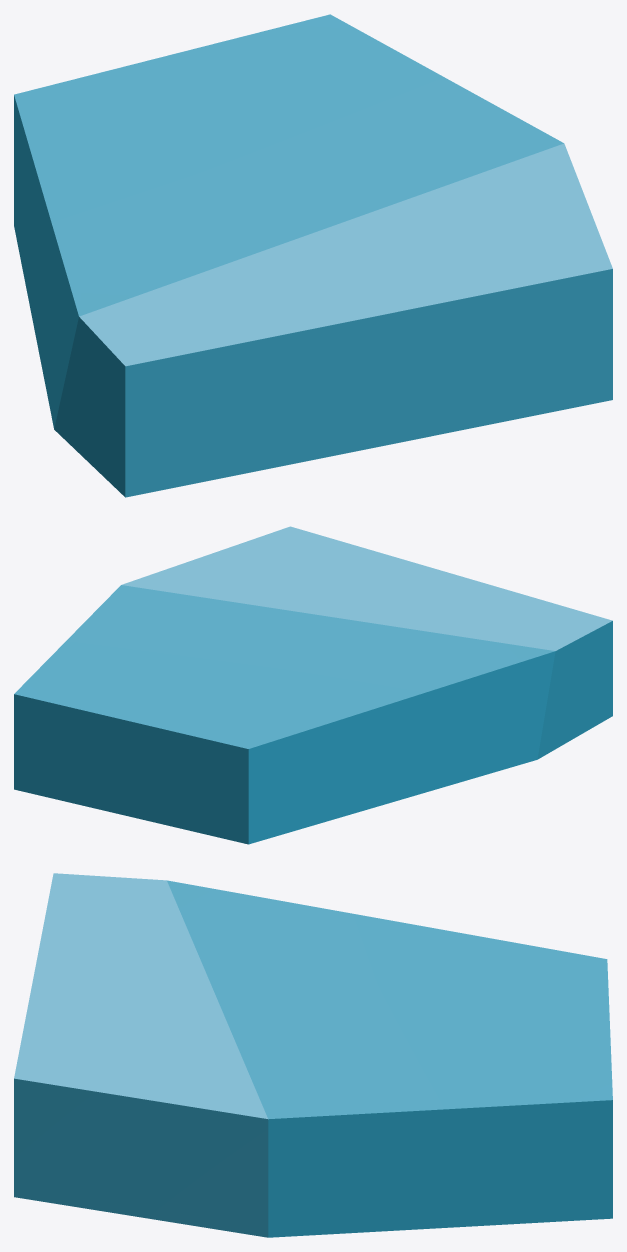
The model's file is decor_002.fbx.
3 renders of one model, top to bottom at view 1: azimuth 30°, elevation 25°; view 2: azimuth 150°, elevation 25°; view 3: azimuth 270°, elevation 25°, orthographic. The views are drawn at different scales.
Parts seen in each view (by area): view 1: decor_002; view 2: decor_002; view 3: decor_002.
Part boxes in pixels (left/top/right/bottom): decor_002: left=14, top=14, right=612, bottom=497; decor_002: left=14, top=526, right=612, bottom=844; decor_002: left=14, top=873, right=612, bottom=1237.
Bounding box in the file's own units: 80.66 × 18.13 × 83.01.
